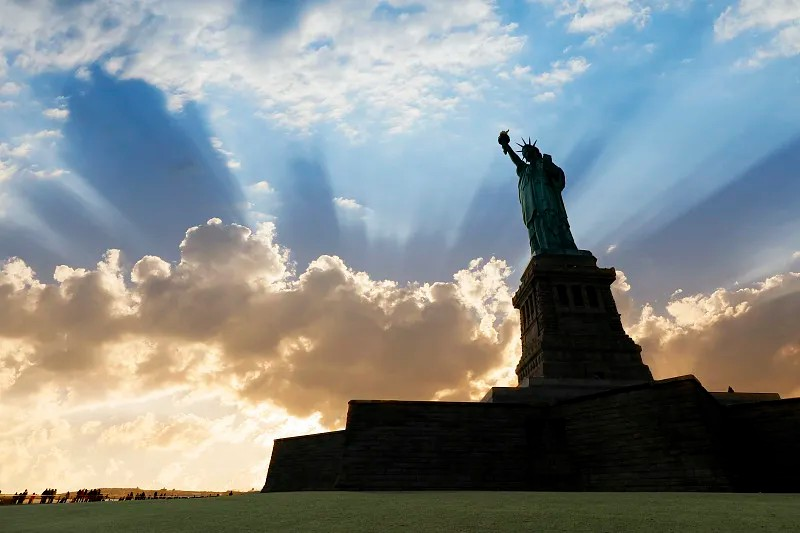SL: (496, 129, 652, 385)
